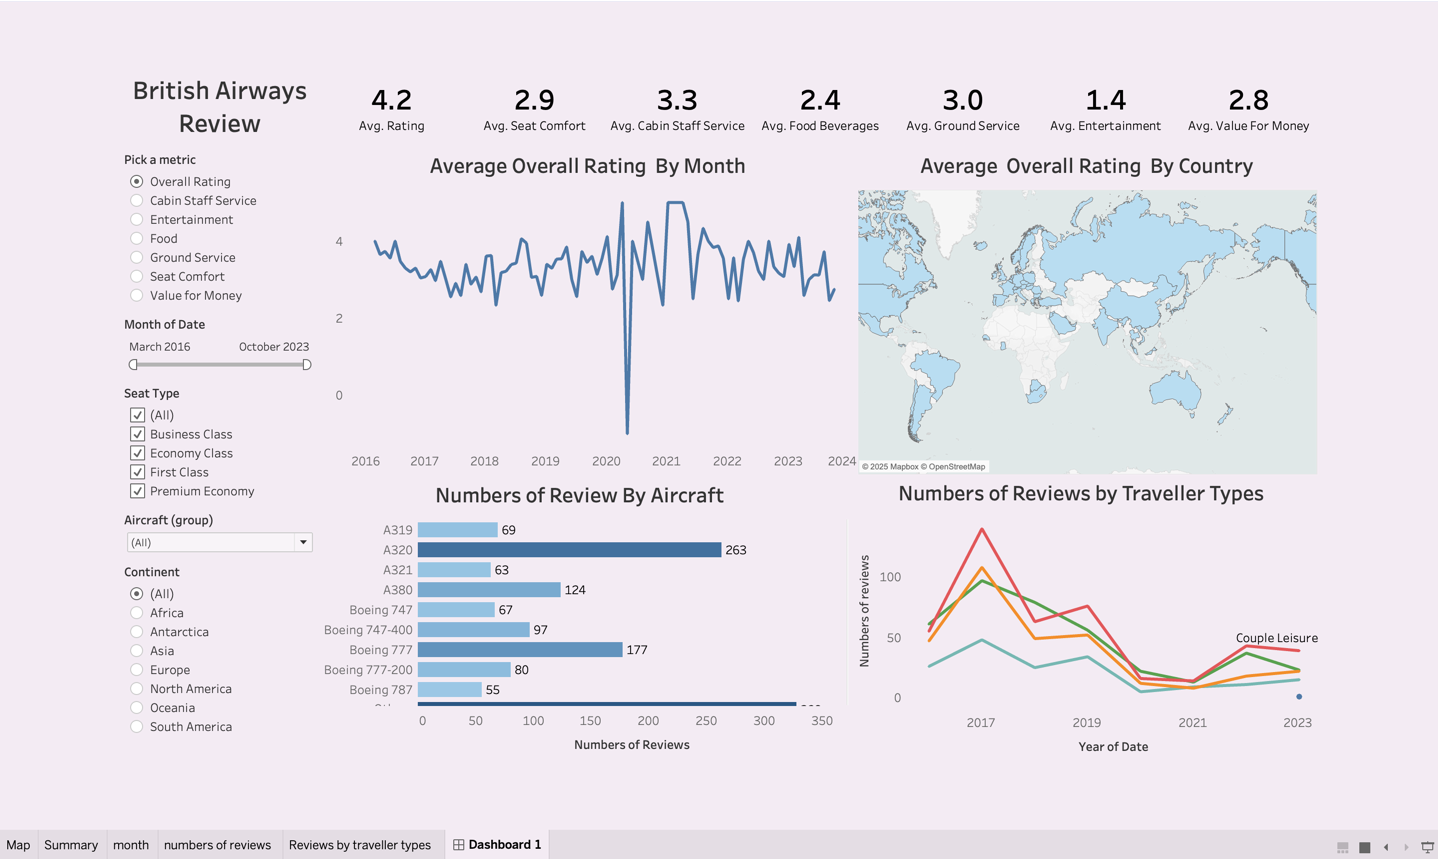

This screenshot's page, from the dashboard's own definition file:
{"tool":"tableau","page":{"name":"Dashboard 1","canvas":[1200,700],"ordinal":0},"visuals":[{"type":"worksheet","title":"Summary","mark":"Automatic","box":[200,0,1001,81]},{"type":"parameter","param":"[Parameters].[Parameter 1]","box":[0,81,200,165]},{"type":"worksheet","title":"month","mark":"Automatic","rows":["cabin_staff_service"],"cols":["date"],"box":[198,81,541,329]},{"type":"worksheet","title":"Map","mark":"Automatic","box":[737,81,462,329]},{"type":"filter","title":"Map","param":"[federated.1bovo7z081yfbv16b3dje1ba909i].[tmn:date:qk]","box":[0,246,200,69]},{"type":"filter","title":"Map","param":"[federated.1bovo7z081yfbv16b3dje1ba909i].[none:seat_type:nk]","box":[0,315,200,127]},{"type":"worksheet","title":"Reviews by traveller types","mark":"Automatic","rows":["ba_reviews.csv_365824B8312243EF85A28C29E6DDB487"],"cols":["date"],"box":[729,409,471,288]},{"type":"worksheet","title":"numbers of reviews","mark":"Automatic","cols":["ba_reviews.csv_365824B8312243EF85A28C29E6DDB487"],"box":[198,411,546,284]},{"type":"filter","title":"Map","param":"[federated.1bovo7z081yfbv16b3dje1ba909i].[Aircraft (group) 1]","box":[0,442,200,52]},{"type":"filter","title":"Map","param":"[federated.1bovo7z081yfbv16b3dje1ba909i].[none:Continent:nk]","box":[0,494,200,184]}]}

Visuals, with their boxes on the page's 1200x700 design canvas (x1, y1, x2, y2). These are canvas units, not pixel positions in the 1439x859 screenshot, which may show the page scaled, cropped or inside an application window:
"Summary" worksheet: left=200, top=0, right=1201, bottom=81
parameter: left=0, top=81, right=200, bottom=246
"month" worksheet: left=198, top=81, right=739, bottom=410
"Map" worksheet: left=737, top=81, right=1199, bottom=410
"Map" filter: left=0, top=246, right=200, bottom=315
"Map" filter: left=0, top=315, right=200, bottom=442
"Reviews by traveller types" worksheet: left=729, top=409, right=1200, bottom=697
"numbers of reviews" worksheet: left=198, top=411, right=744, bottom=695
"Map" filter: left=0, top=442, right=200, bottom=494
"Map" filter: left=0, top=494, right=200, bottom=678
